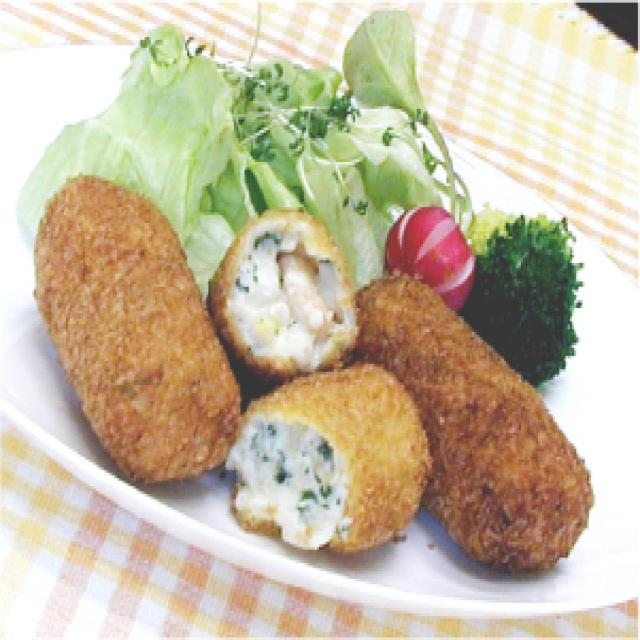炸货点心: (17, 162, 593, 574)
